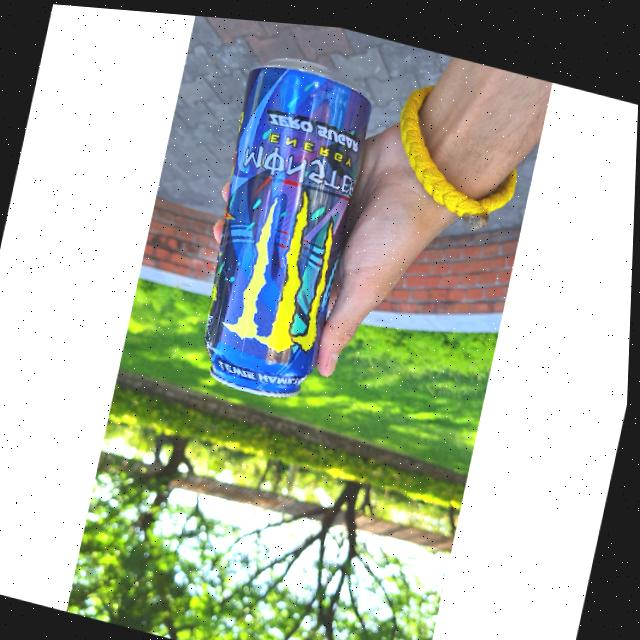Monster LH44: (183, 42, 388, 408)
